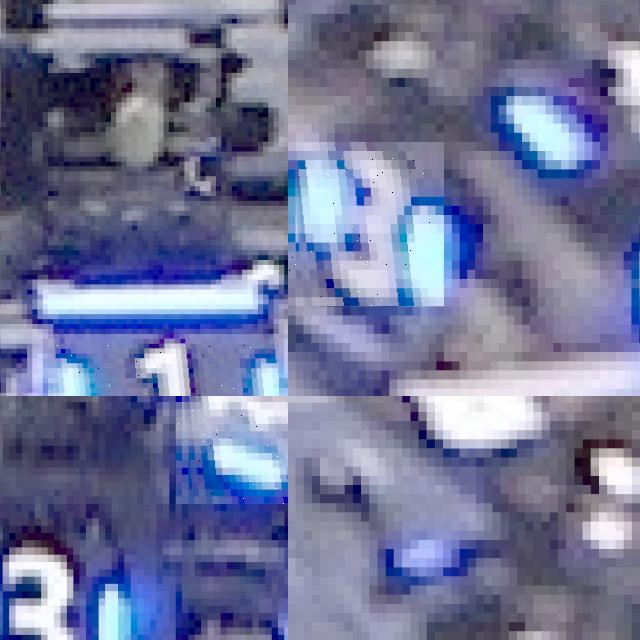B1: (48, 333, 279, 396)
B3: (288, 142, 444, 306), (0, 533, 137, 640), (175, 396, 288, 503)
